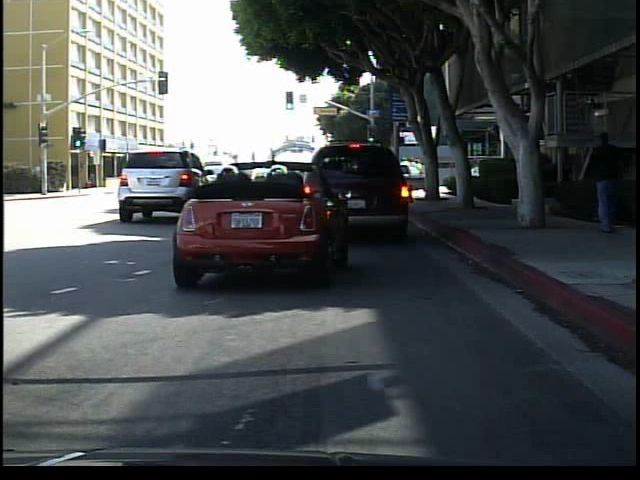person: (582, 132, 631, 239), (514, 143, 543, 225)
